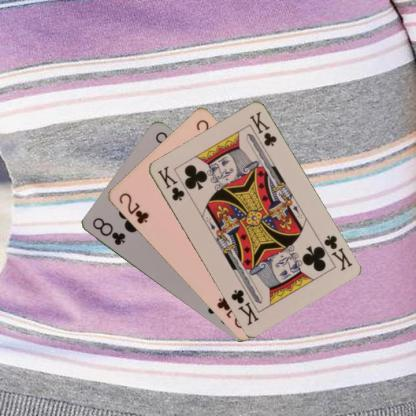2c: (115, 190, 150, 225)
8c: (89, 215, 127, 247)
Kc: (321, 232, 353, 272), (154, 163, 186, 202)
